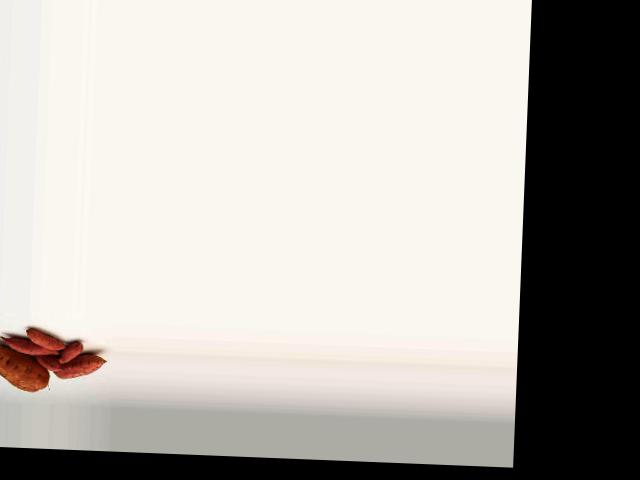sweet_potato: (54, 352, 108, 380)
